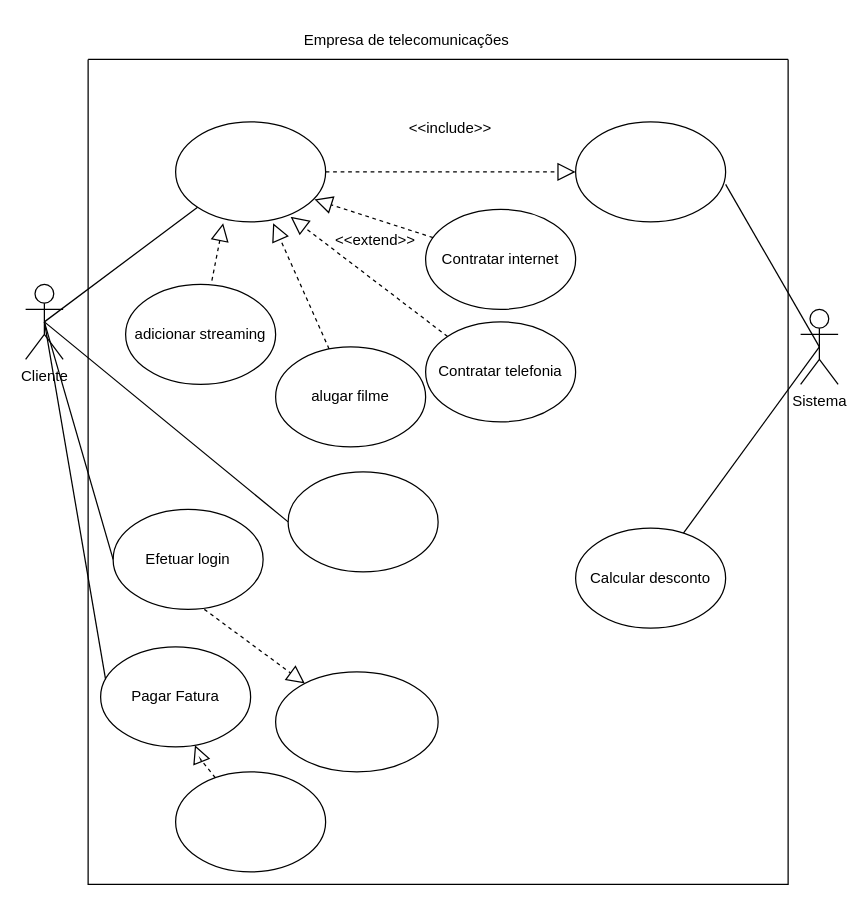
Some shapes in this 868 by 906 pixel diagram are drawn without their labels. Here are the shapes that lost their labels. From the top down, the centre of each, then its label:
point 250,171: Contratar Assinatura
point 650,171: Gerenciar serviços
point 362,521: Cadastrar
point 356,721: Validar Login
point 250,821: Alugar filmes
